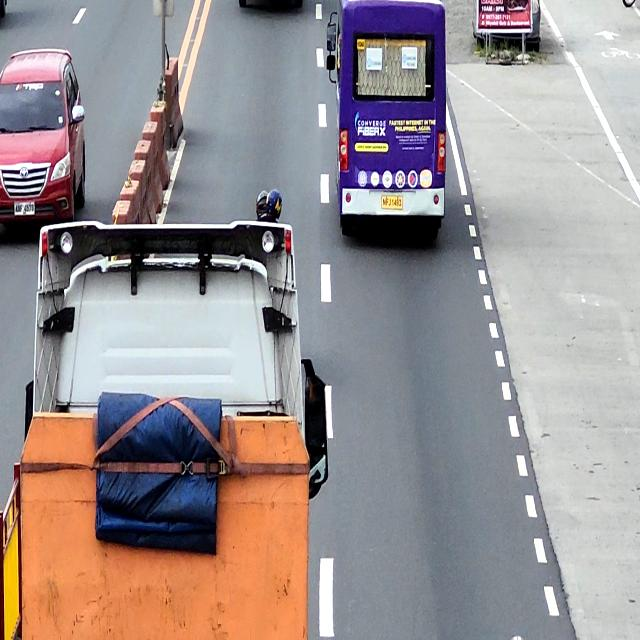Bus: (325, 0, 447, 243)
Car: (0, 48, 87, 227)
License-Plate: (380, 195, 403, 210), (14, 201, 35, 217)
Truck: (0, 220, 328, 640)
